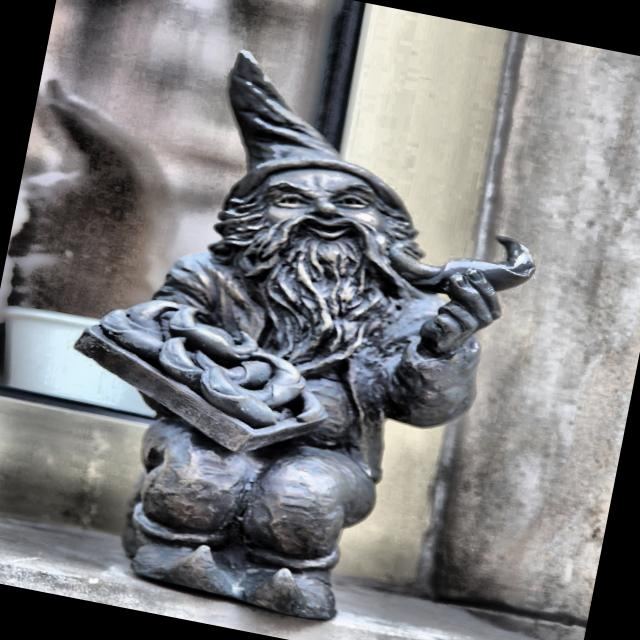Rogalik: (74, 50, 534, 622)
